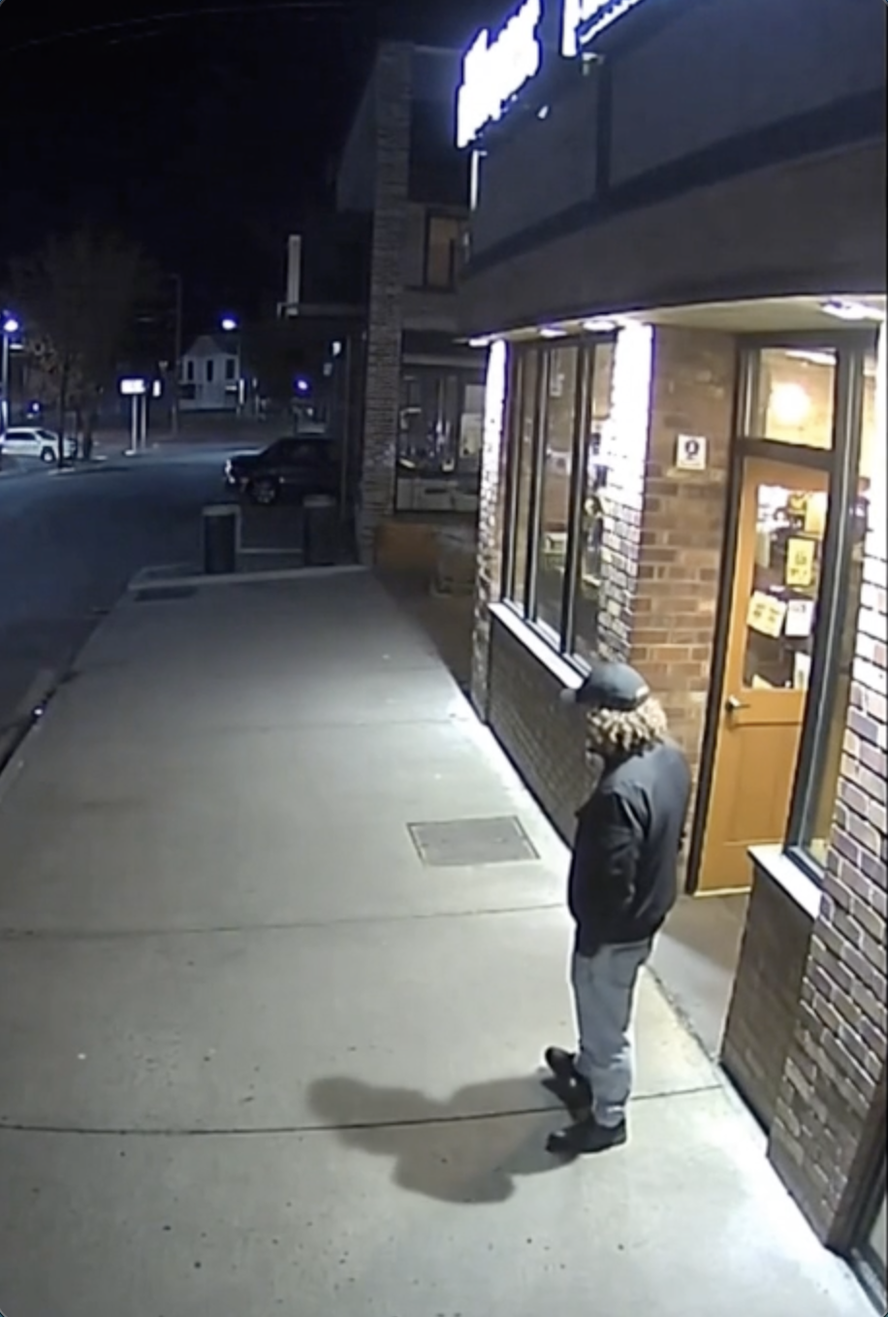Heavy Gun: (501, 658, 699, 1157)
